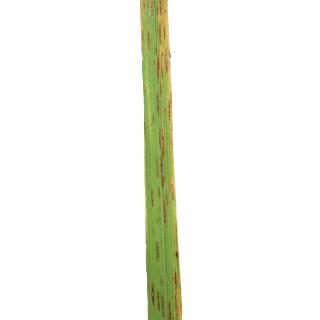Bercak-Cokelat-Sempit: (162, 188, 171, 229), (166, 89, 175, 125), (157, 127, 166, 161), (149, 280, 156, 308), (148, 187, 156, 209), (155, 90, 161, 119), (164, 47, 170, 75), (160, 49, 165, 82), (168, 180, 175, 202), (146, 29, 152, 54), (173, 268, 179, 293), (158, 21, 164, 46), (154, 156, 160, 179), (155, 241, 161, 264), (167, 300, 173, 320), (157, 288, 161, 314), (156, 186, 162, 202), (139, 28, 145, 44), (159, 82, 164, 99), (159, 0, 163, 17), (141, 0, 147, 11), (163, 25, 167, 41), (151, 111, 155, 124)
